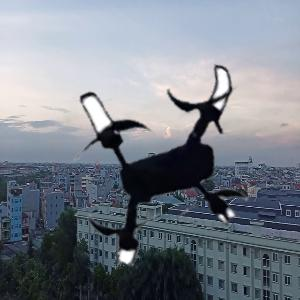drone: (45, 41, 271, 267)
